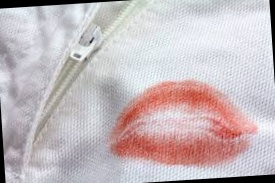lipstick: (105, 77, 252, 169)
